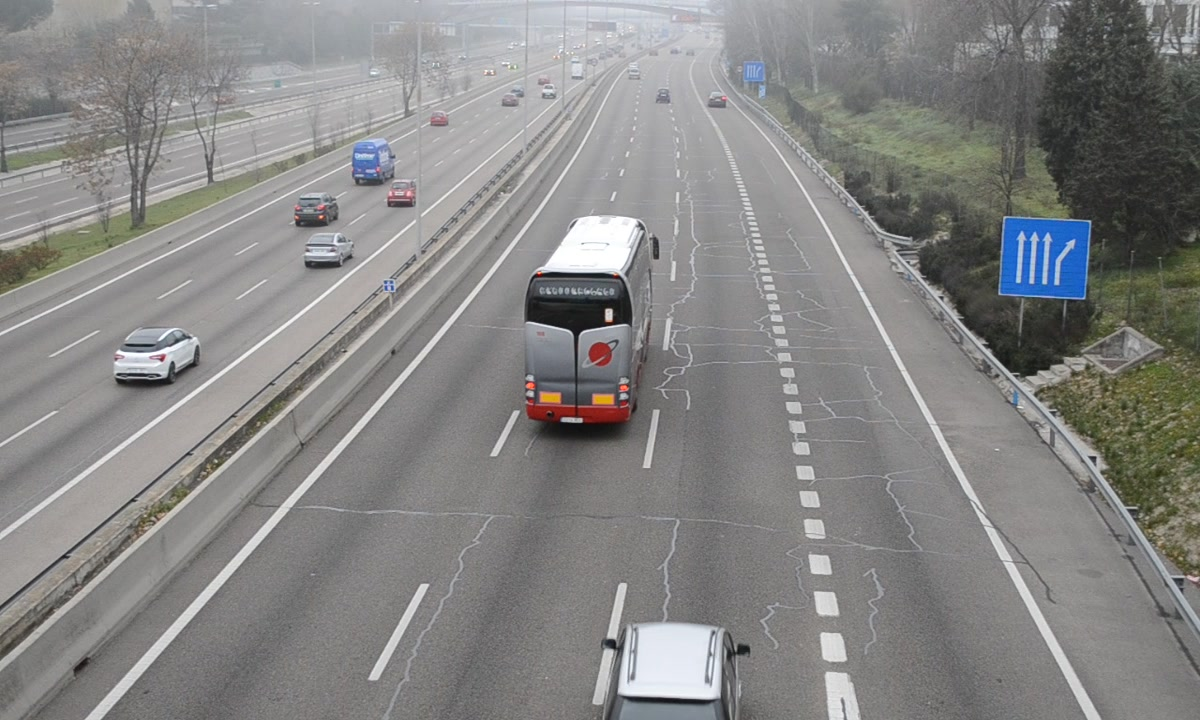bus: (523, 215, 650, 429)
car: (600, 624, 743, 720), (707, 90, 728, 109)
